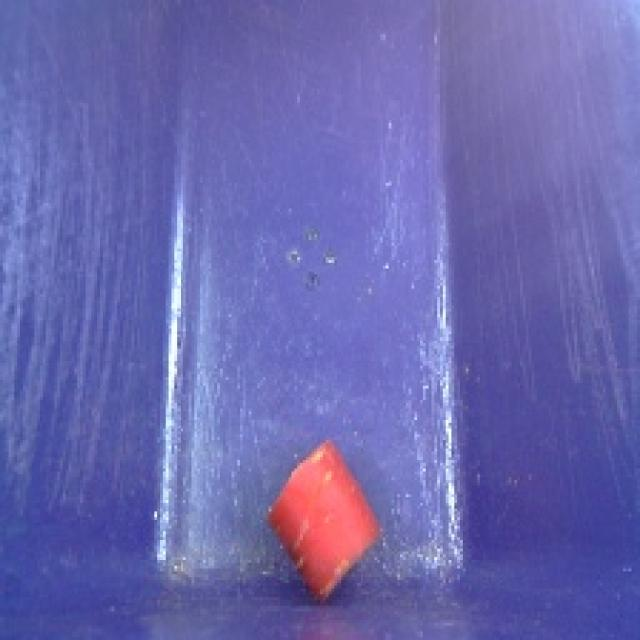carrots: (253, 429, 395, 607)
